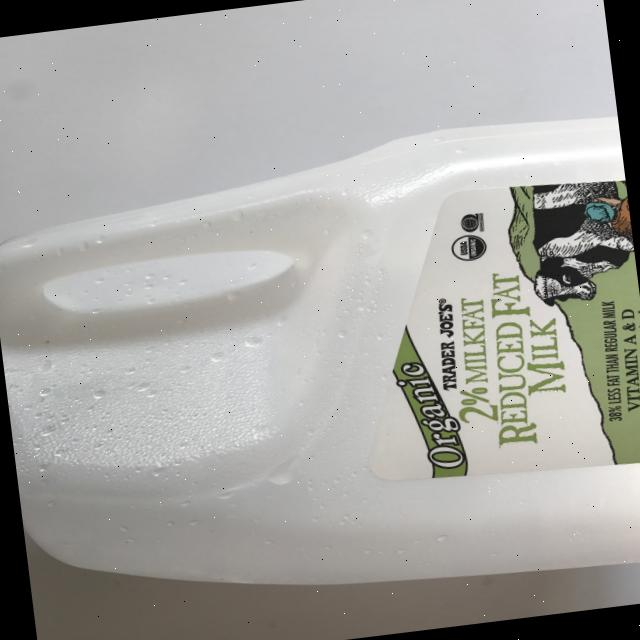plastic: (0, 106, 640, 635)
